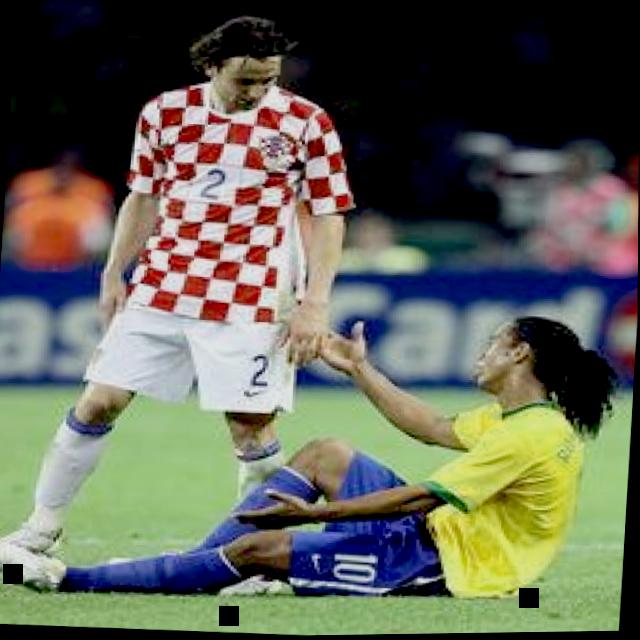Fall-Detected: (0, 265, 613, 621)
